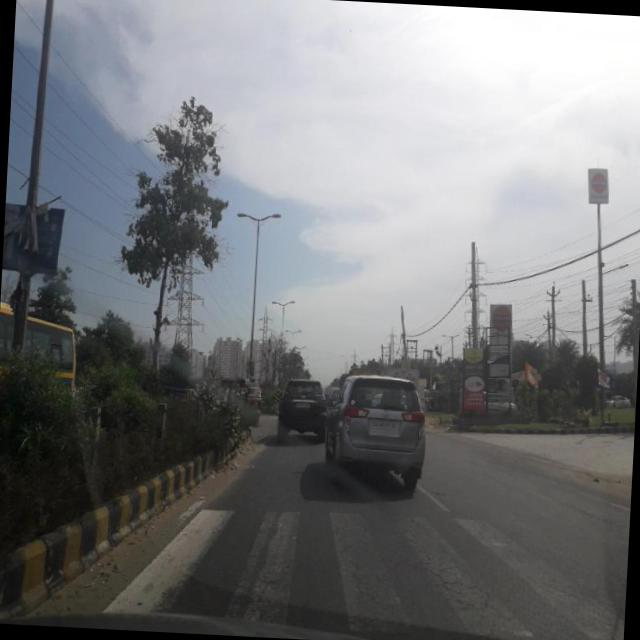crack: (148, 496, 630, 638)
